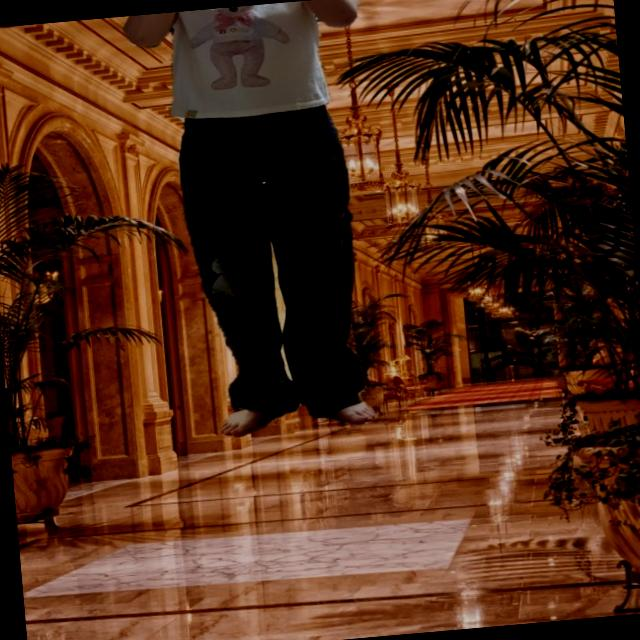denimpants: (176, 94, 374, 428)
shortsleeve: (141, 0, 359, 122)
